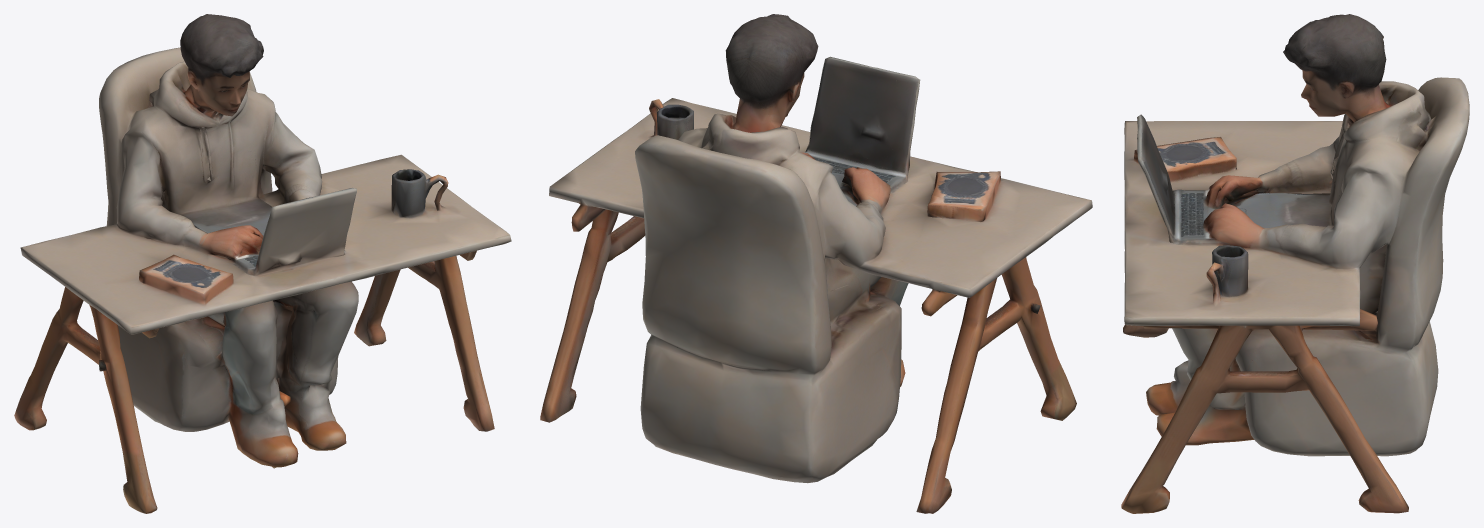
The model's file is avatar.glb.
The picture shows the model from 3 angles, left to right: view 1: azimuth 30°, elevation 25°; view 2: azimuth 150°, elevation 25°; view 3: azimuth 270°, elevation 25°; orthographic projection. The views are drawn at different scales.
Bounding box in the file's own units: 2 × 1.93 × 1.49.
1 material, 1 textured.
